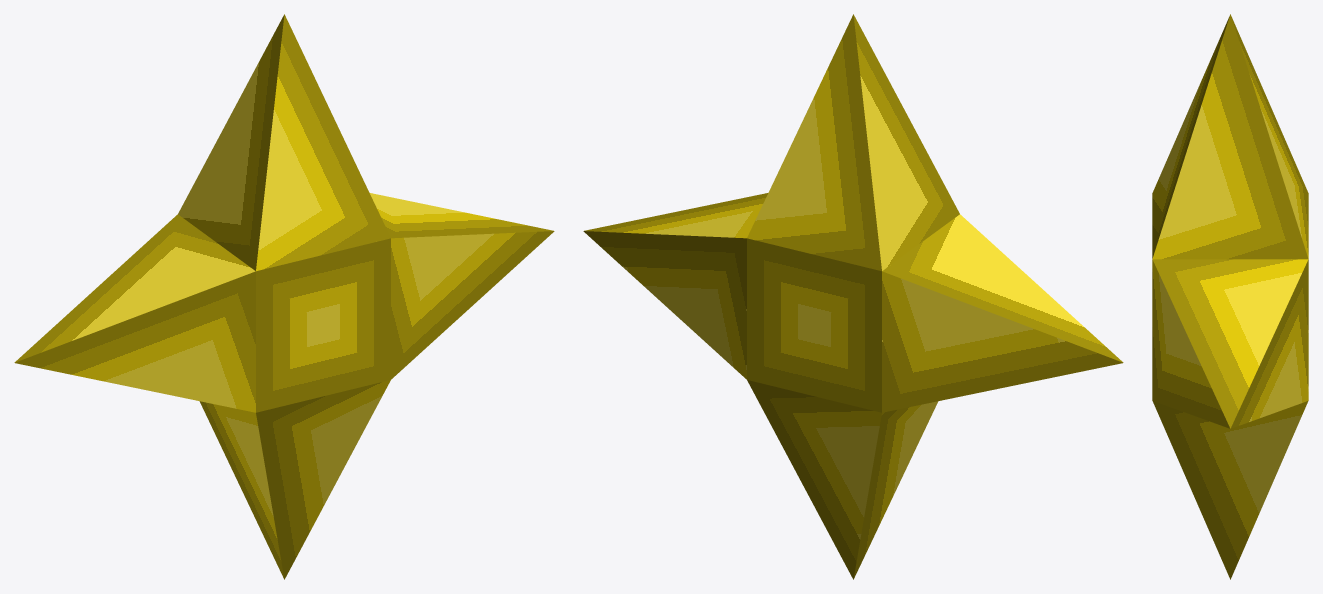
File: challenge_star.fbx
3 renders of one model, left to right at view 1: azimuth 30°, elevation 25°; view 2: azimuth 150°, elevation 25°; view 3: azimuth 270°, elevation 25°, orthographic.
Visible parts, largest first — view 1: pyramid, pyramid_1, cuboid, pyramid_2, pyramid_3; view 2: pyramid, pyramid_1, cuboid, pyramid_2, pyramid_3; view 3: pyramid, pyramid_3, pyramid_2.
Part boxes in pixels (<box>): pyramid: <box>178,14,390,271</box>; pyramid_1: <box>14,214,255,412</box>; cuboid: <box>256,238,390,412</box>; pyramid_2: <box>199,380,390,579</box>; pyramid_3: <box>369,193,554,379</box>; pyramid: <box>747,14,959,271</box>; pyramid_1: <box>882,214,1123,412</box>; cuboid: <box>747,238,881,412</box>; pyramid_2: <box>747,380,938,579</box>; pyramid_3: <box>583,193,768,379</box>; pyramid: <box>1152,14,1308,259</box>; pyramid_3: <box>1152,259,1308,428</box>; pyramid_2: <box>1152,401,1308,579</box>.
Size of the model in its own units: 200 by 200 by 50.
1 material, 1 textured.
